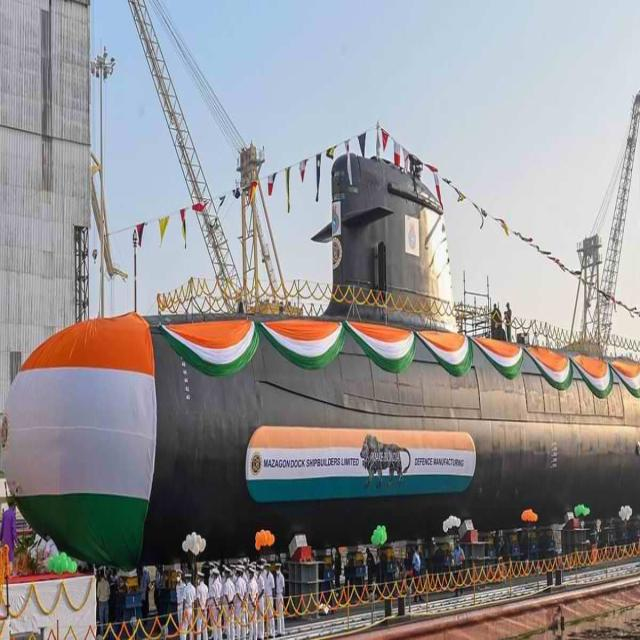Submarine-Kalvari-Class-IND: (7, 132, 627, 550)
